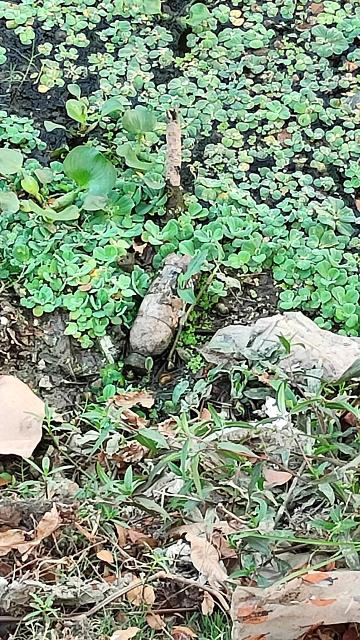bottle: (119, 261, 209, 376)
